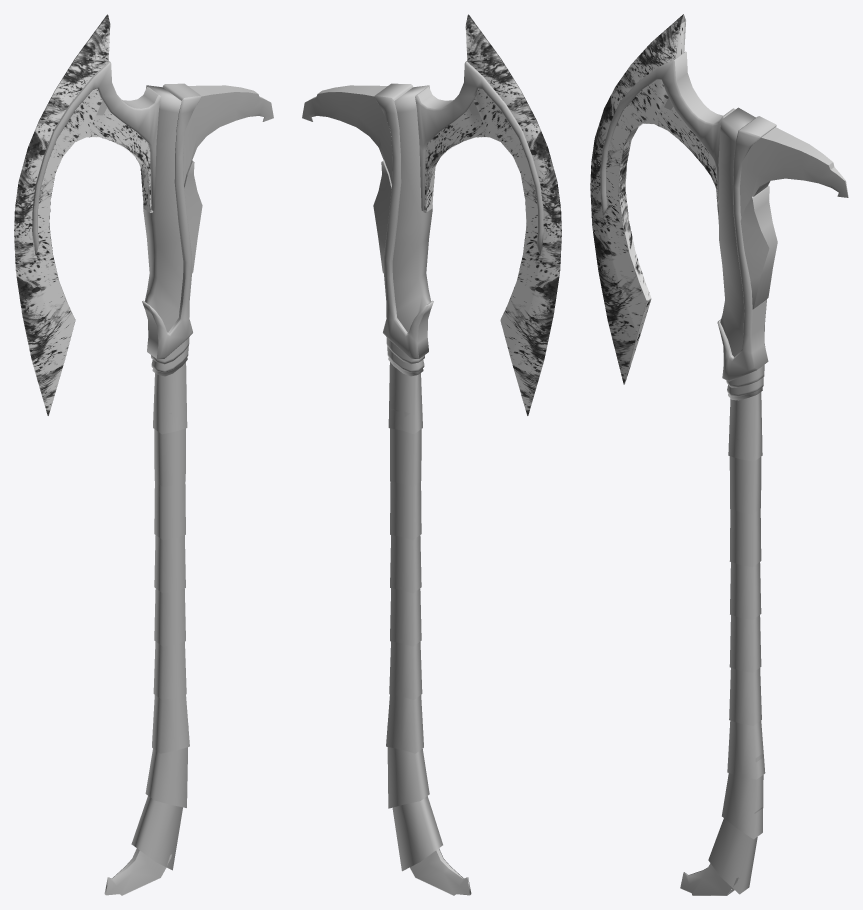
Rendered from elvenbattleaxe.obj.
The picture shows the model from 3 angles, left to right: view 1: azimuth 30°, elevation 25°; view 2: azimuth 150°, elevation 25°; view 3: azimuth 330°, elevation 25°; orthographic projection.
Visible parts, largest first — view 1: 1stPersonElvenBattleAxe:0, BloodEdge; view 2: 1stPersonElvenBattleAxe:0, BloodEdge; view 3: 1stPersonElvenBattleAxe:0, BloodEdge.
Part boxes in pixels (x1=…): 1stPersonElvenBattleAxe:0: x1=16, y1=61, x2=273, y2=895; BloodEdge: x1=14, y1=14, x2=152, y2=415; 1stPersonElvenBattleAxe:0: x1=302, y1=61, x2=559, y2=895; BloodEdge: x1=423, y1=14, x2=561, y2=415; 1stPersonElvenBattleAxe:0: x1=600, y1=14, x2=848, y2=895; BloodEdge: x1=590, y1=14, x2=718, y2=384.
Bounding box in the file's own units: 31.73 × 103 × 4.44.
